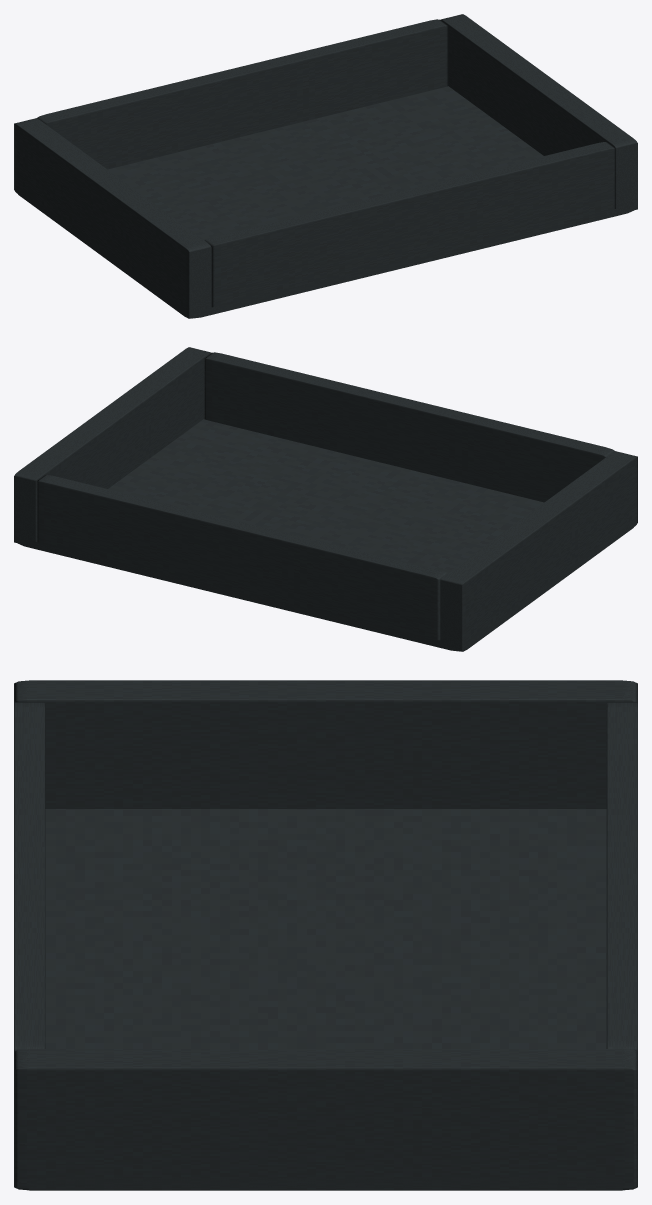
File: stationery.glb
The picture shows the model from 3 angles, top to bottom: view 1: azimuth 30°, elevation 25°; view 2: azimuth 150°, elevation 25°; view 3: azimuth 270°, elevation 25°; orthographic projection. The views are drawn at different scales.
Parts seen in each view (by area): view 1: edge (×2), bottom, side (×2); view 2: edge (×2), bottom, side (×2); view 3: side (×2), bottom, edge (×2).
Part boxes in pixels (x1,y1,x2,y2): edge (×2): (37,19,615,310); bottom: (18,86,633,318); side (×2): (14,14,637,318); edge (×2): (36,352,614,643); bottom: (18,419,633,651); side (×2): (14,347,637,651); side (×2): (14,680,637,1190); bottom: (28,809,623,1190); edge (×2): (14,702,637,1051).
Bounding box in the file's own units: 0.25 × 0.037 × 0.17.
1 material, 1 textured.
